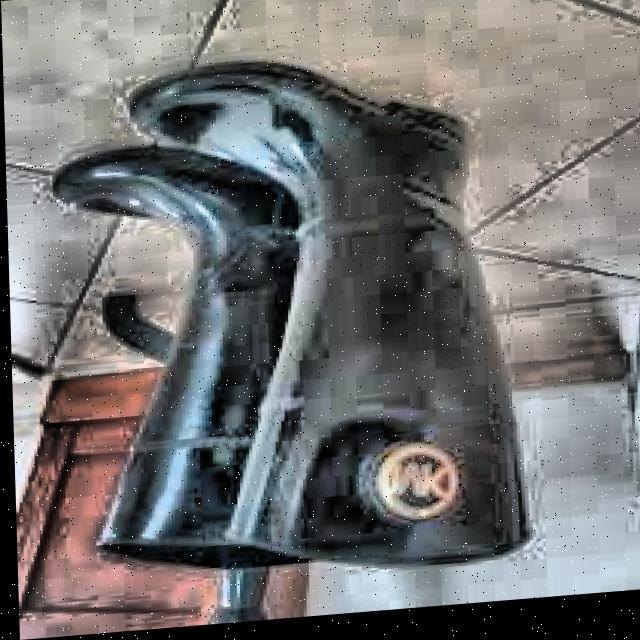shoes: (36, 13, 603, 611)
